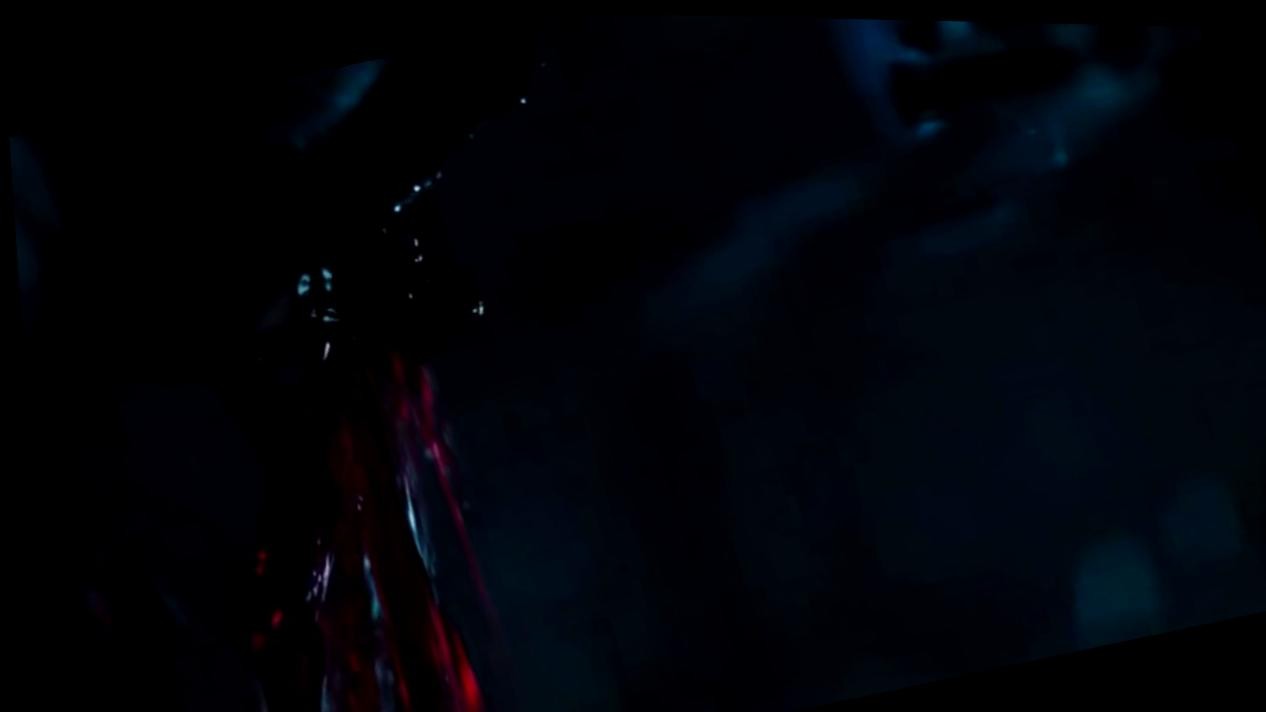Fire: (241, 336, 476, 712)
